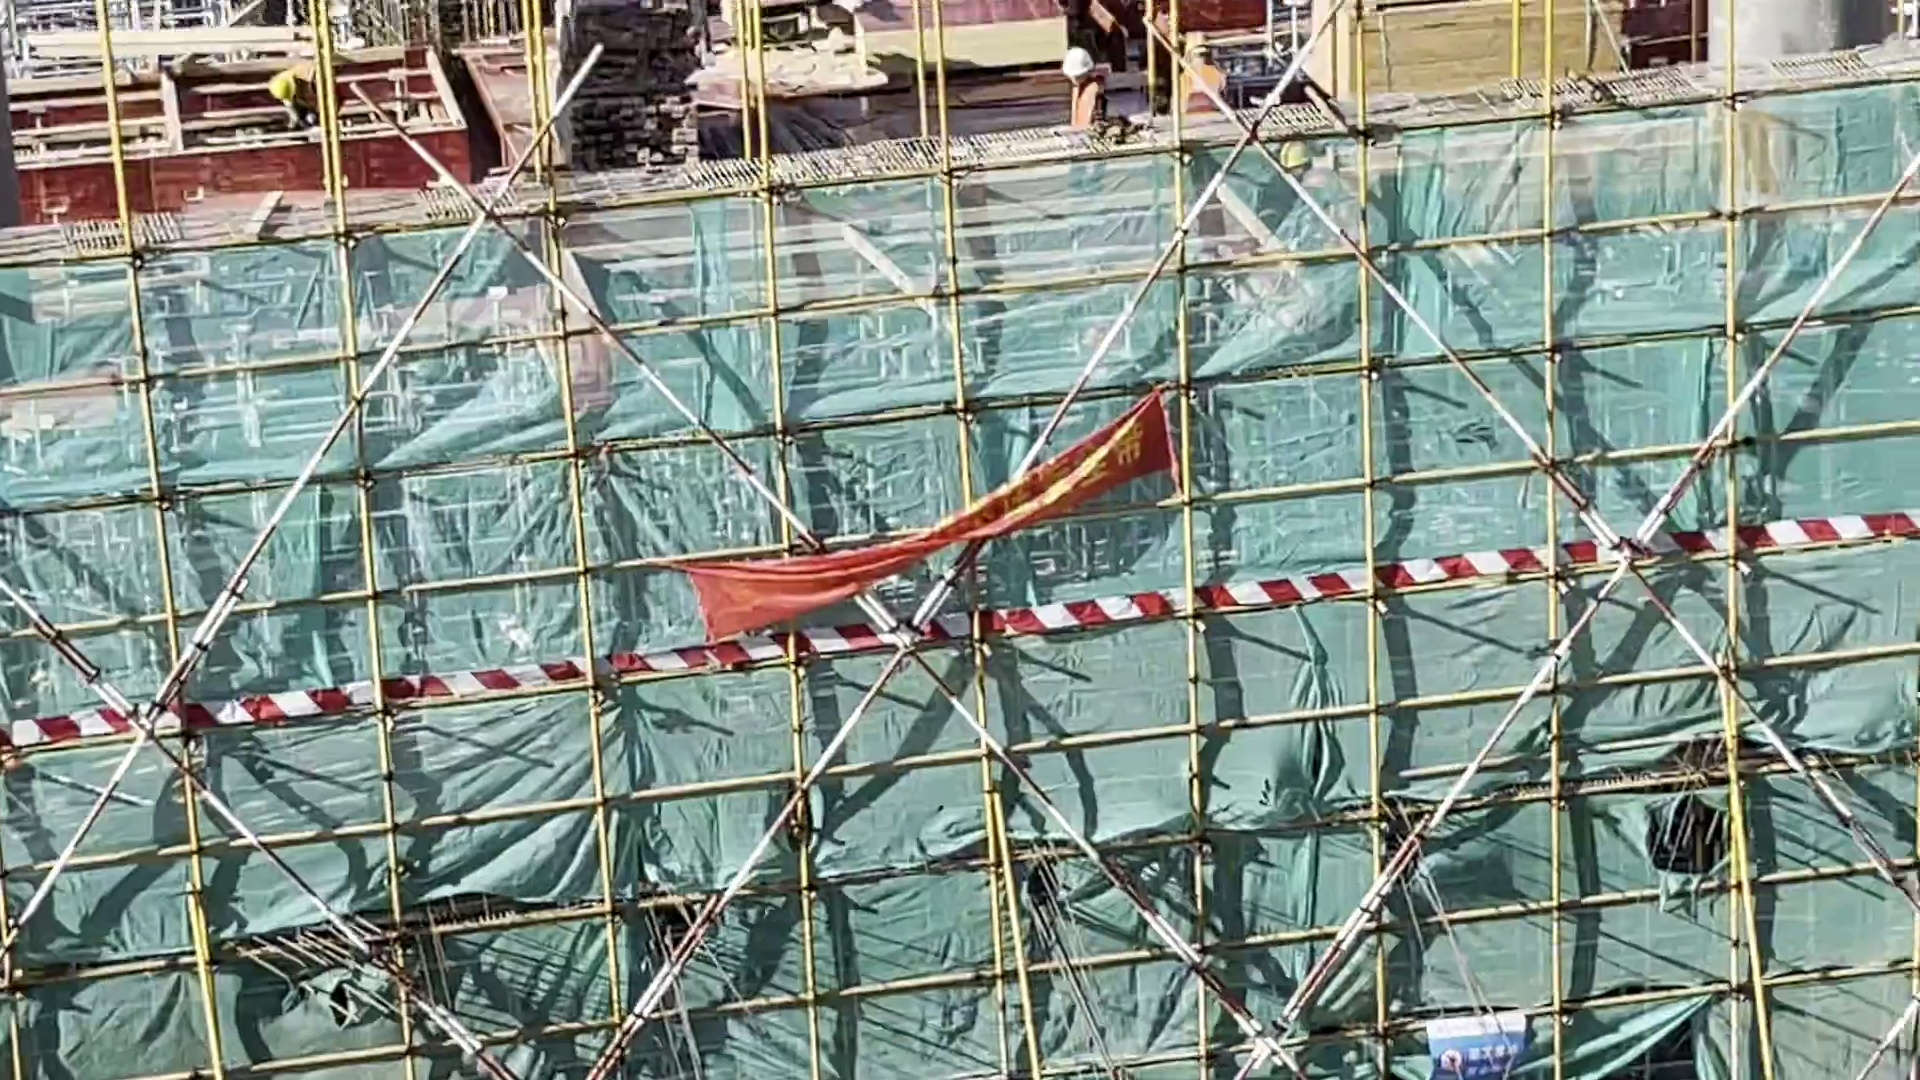helmet: (1063, 39, 1096, 80), (267, 75, 300, 104)
person: (1054, 31, 1114, 128), (262, 60, 321, 119)
slogan: (1417, 997, 1524, 1080)
vest: (1068, 83, 1101, 131)
wood: (1296, 5, 1626, 130), (556, 4, 717, 182)
